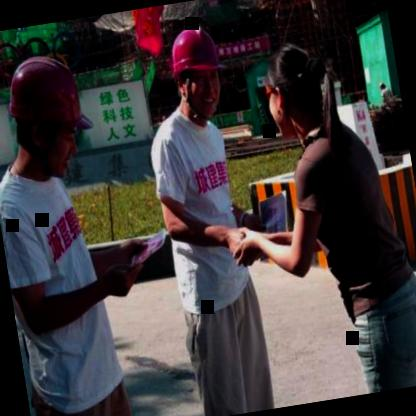head: (257, 40, 336, 146)
helmet: (0, 36, 97, 174), (162, 14, 232, 131)
